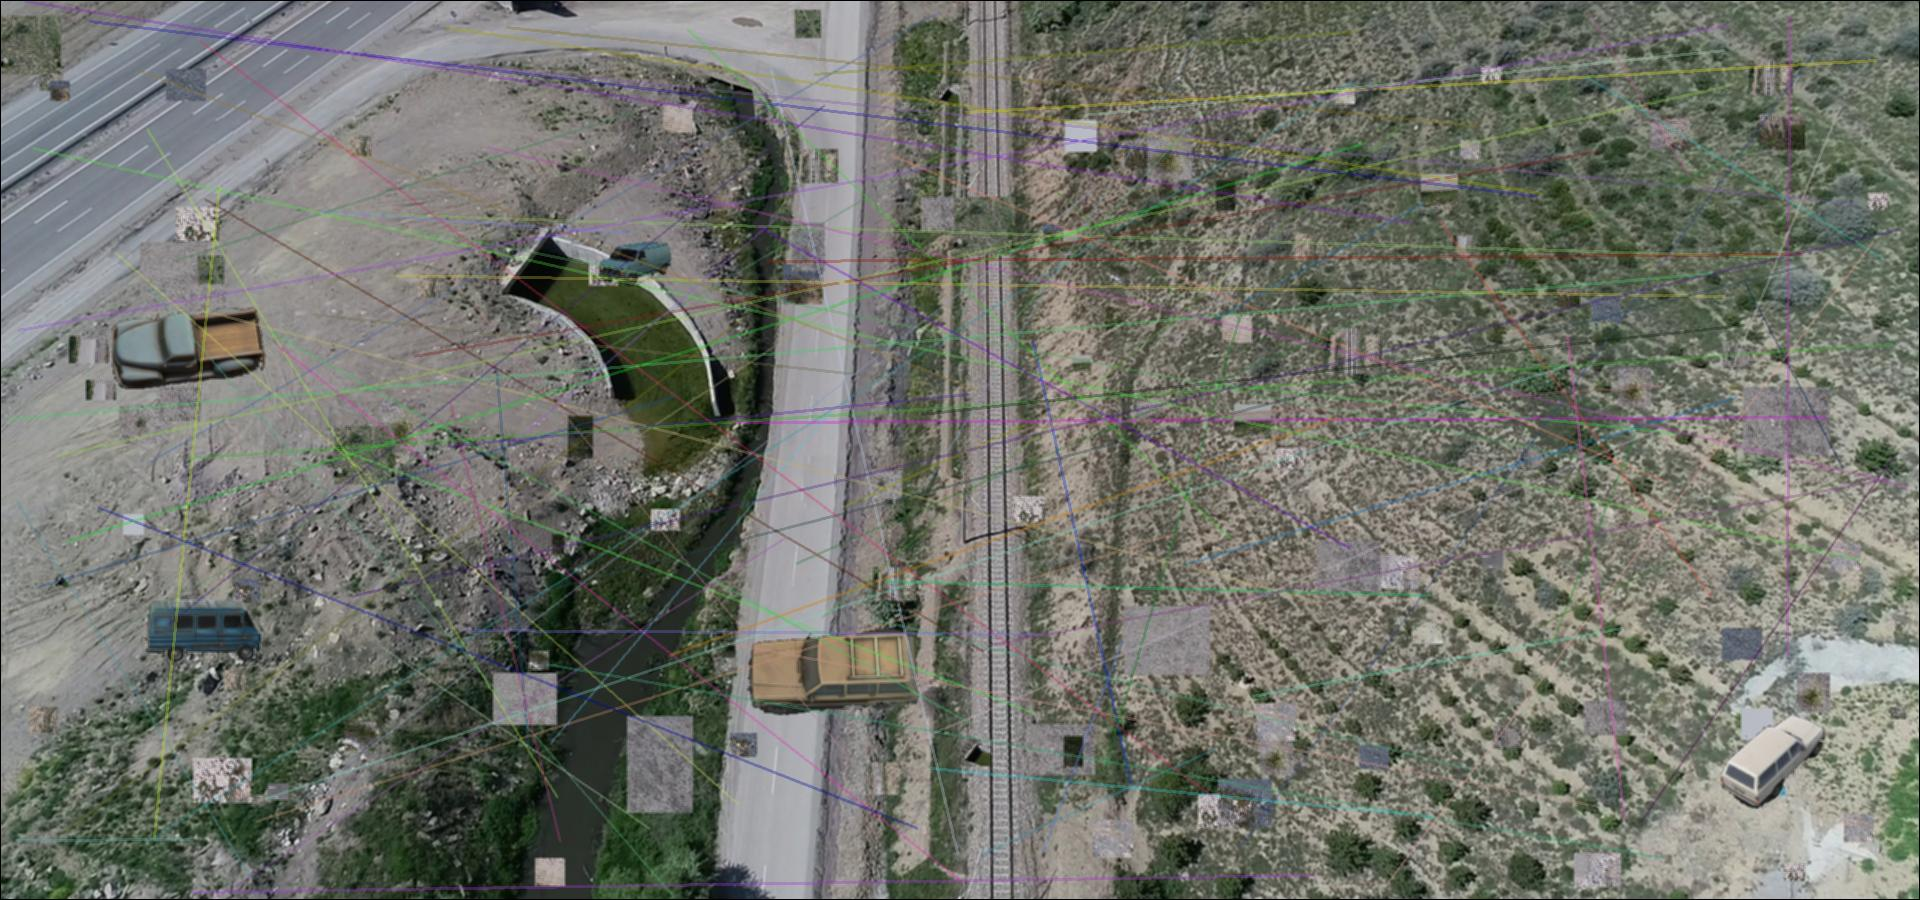arac: (747, 624, 924, 720), (111, 305, 268, 393), (1718, 709, 1827, 811), (144, 598, 262, 662), (598, 239, 671, 287)
